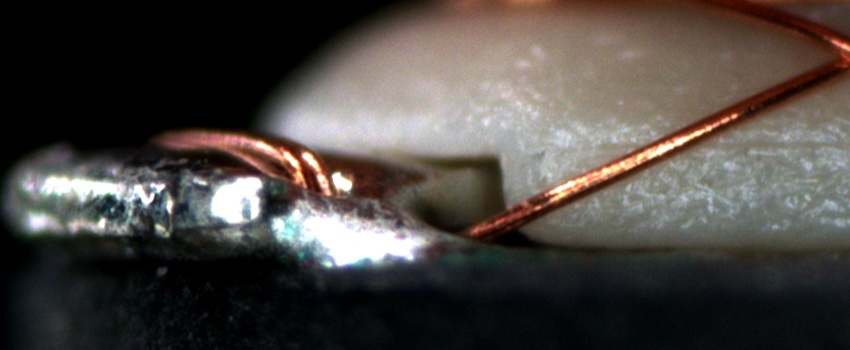CL: (803, 26, 850, 87)
DL: (591, 113, 850, 173)
TE: (161, 124, 343, 206)
